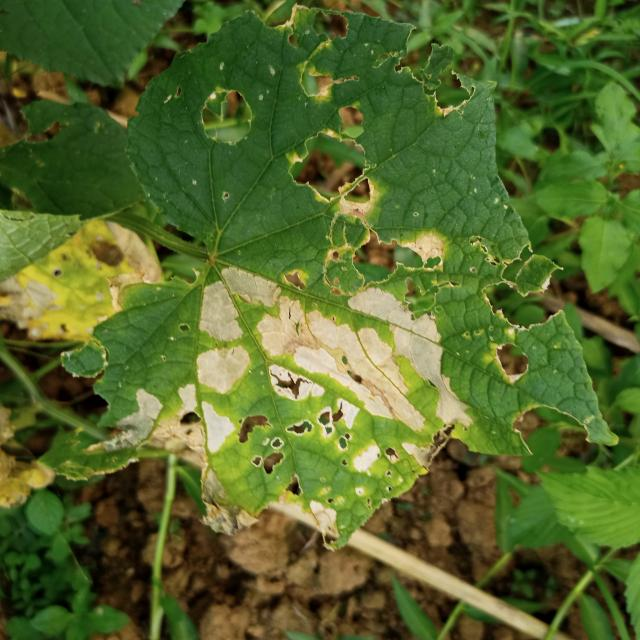disease_cucumber: (106, 268, 464, 522), (308, 39, 482, 289)
